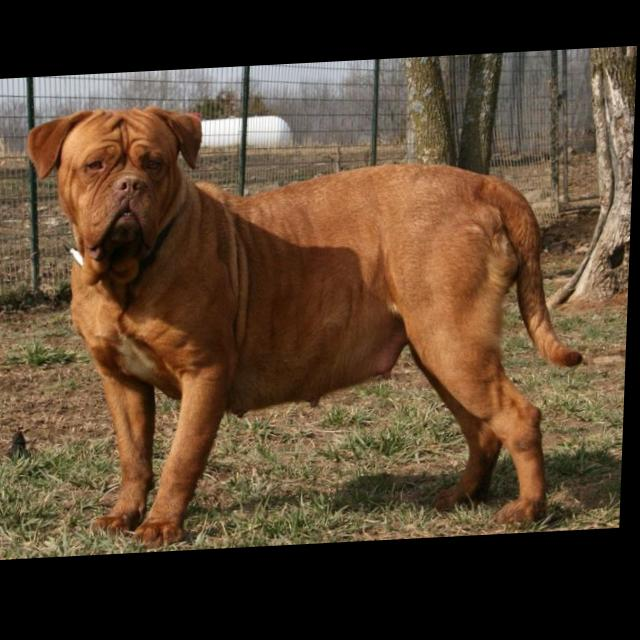dogue_de_bordeaux: (17, 89, 596, 560)
